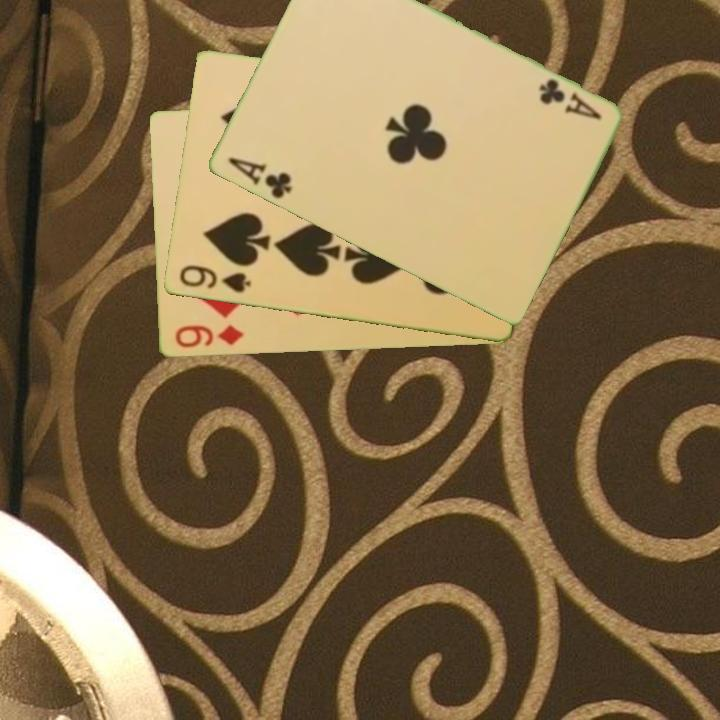9d: (171, 322, 246, 351)
9s: (175, 262, 253, 296)
Ac: (224, 154, 295, 202), (534, 75, 605, 123)
